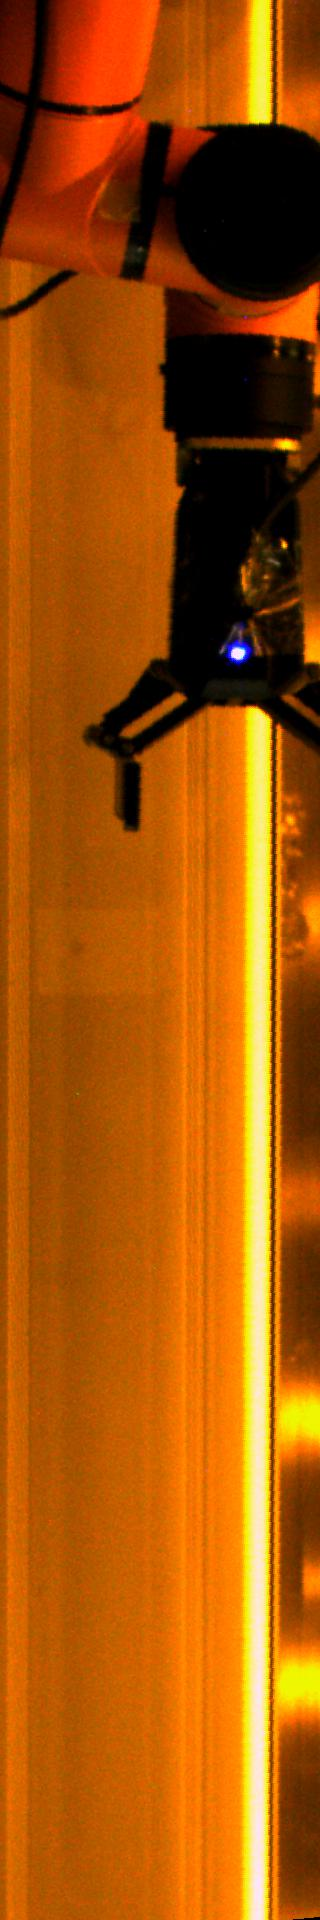keyPoint_1: (224, 638, 254, 669)
